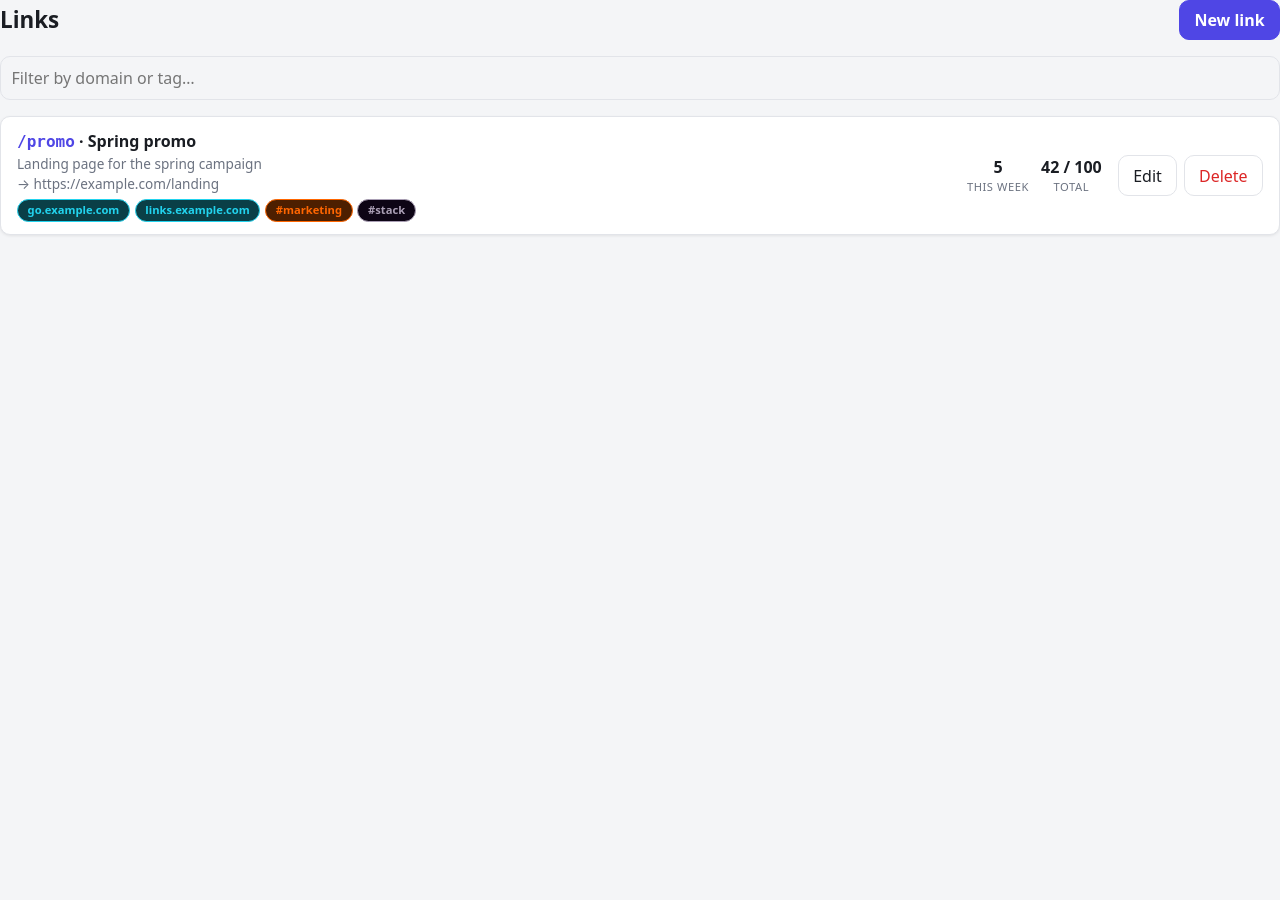
Test case: ShortCodes › opens the edit modal from the edit button without expanding the row
Expected: the text "Spring promo" is shown, [79, 130, 196, 152]
What coordinates should you click on to do the following:
click the button "Edit"
I would click on:
 (1148, 176)
Its box is [1118, 155, 1177, 196].
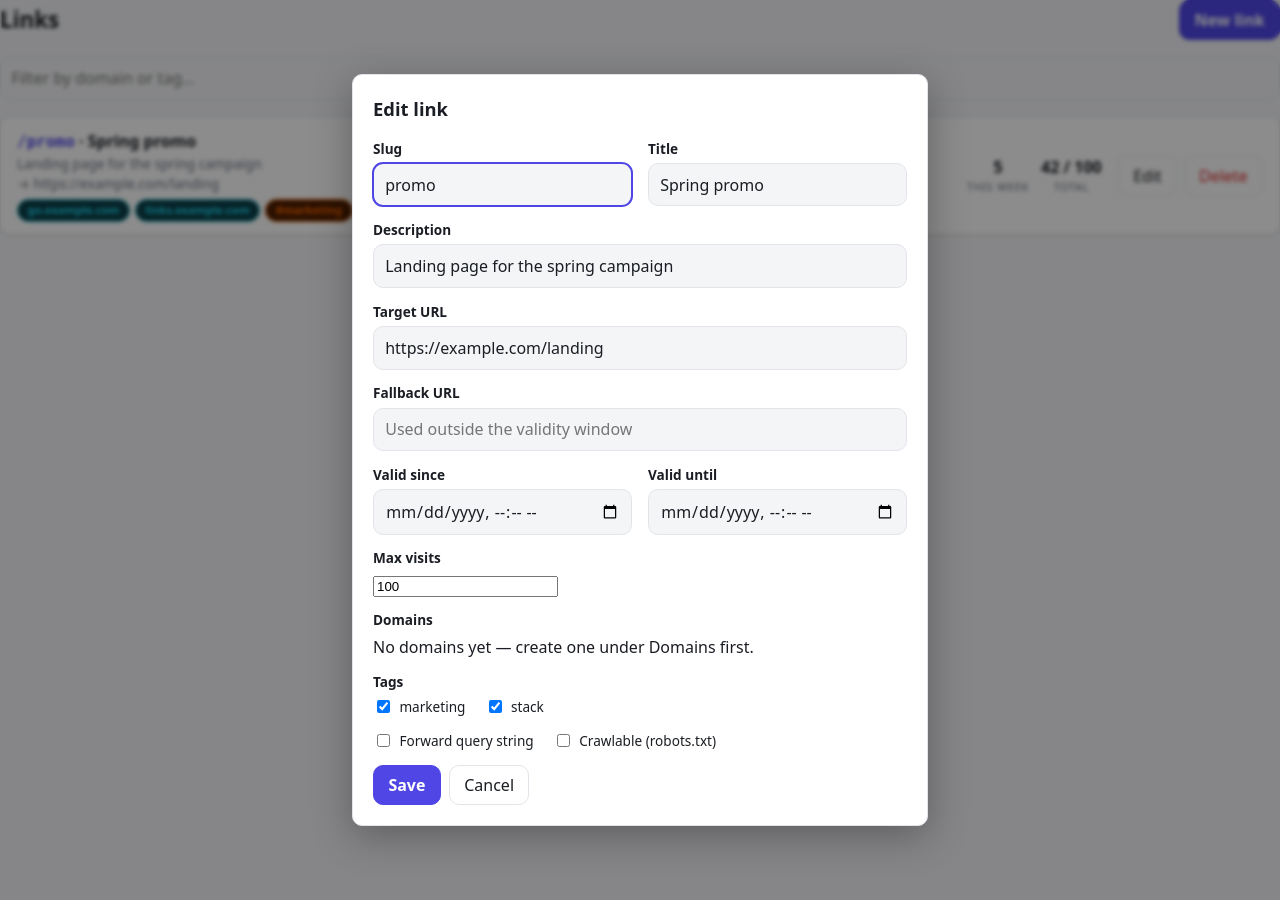
Expected: the field labelled "Slug" holds "promo", [373, 163, 632, 206]
Expected: the field labelled "Description" holds "Landing page for the spring campaign", [373, 244, 907, 288]
Expected: the number field labelled "Max visits" holds "100", [373, 576, 558, 597]
